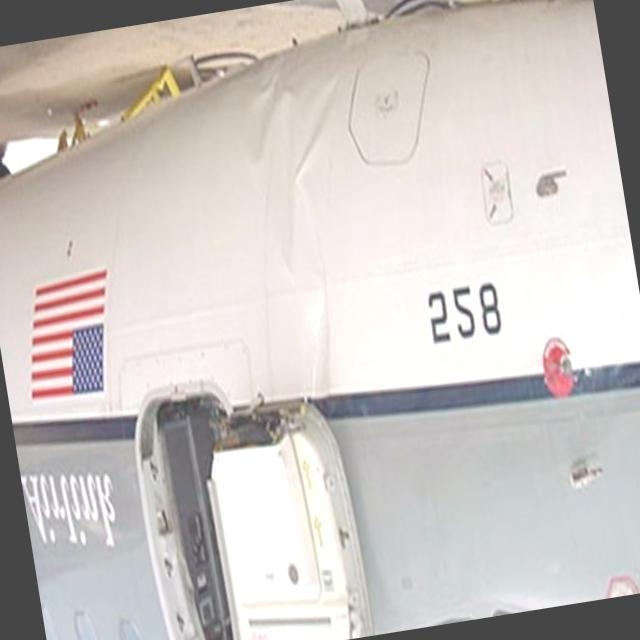dent: (232, 52, 390, 400)
